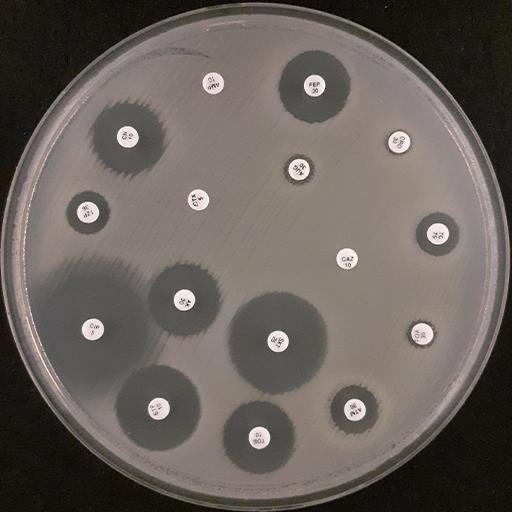disc: (146, 396, 172, 422), (266, 328, 291, 354), (81, 317, 106, 343), (75, 199, 101, 224), (115, 124, 140, 150), (287, 158, 312, 182), (387, 130, 412, 154), (410, 322, 434, 346), (426, 221, 449, 246), (343, 399, 367, 422), (304, 74, 327, 98), (248, 426, 270, 450), (173, 290, 196, 312), (336, 248, 358, 270), (187, 189, 209, 211), (202, 72, 224, 94)
